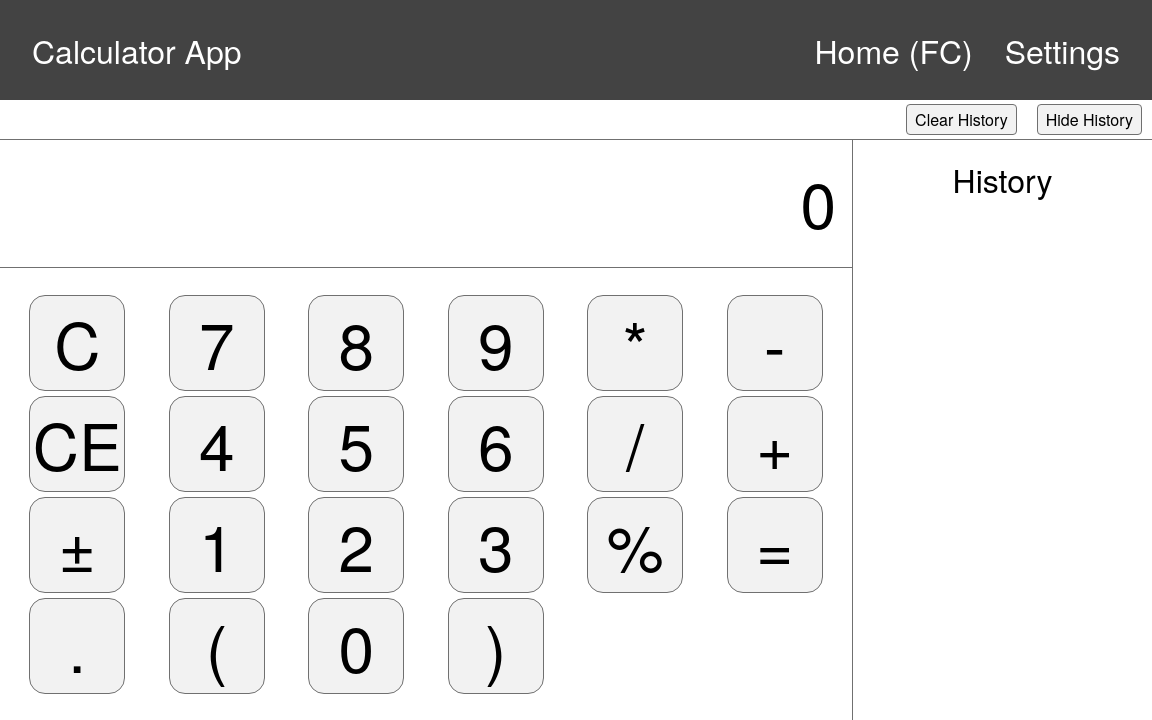
Test: calculator › should add records history
Click the button "5" at [356, 444], box [308, 396, 404, 492]
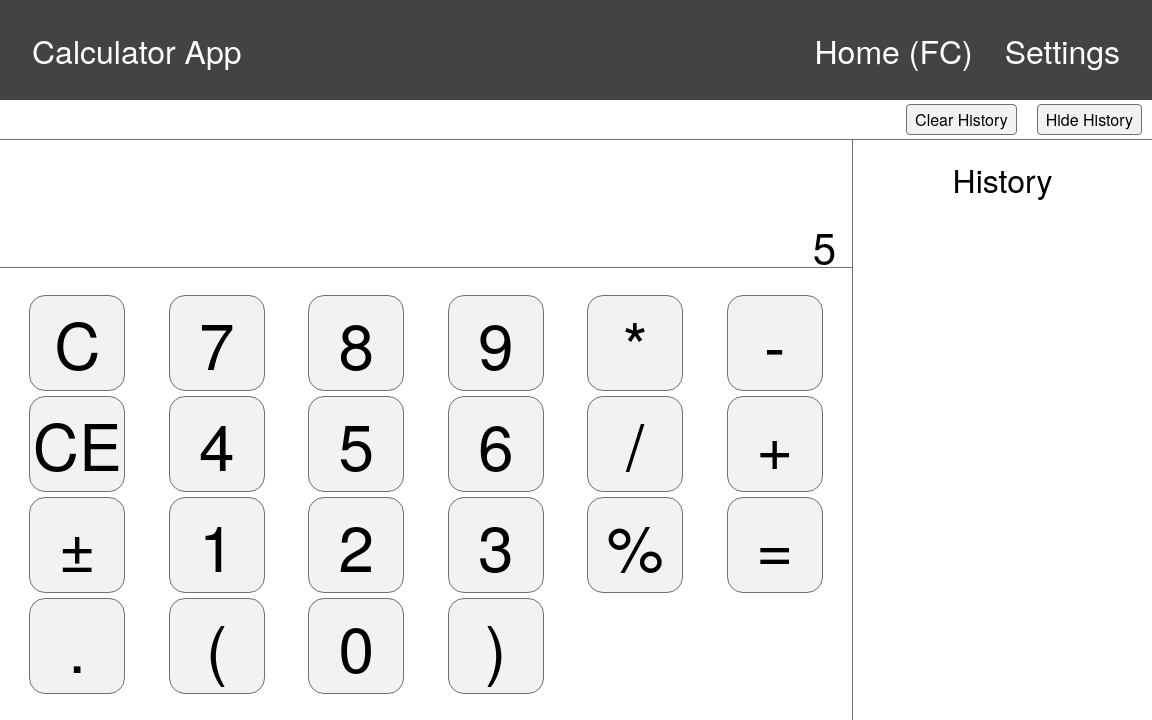
Click the button "-" at [775, 343], box [727, 295, 823, 391]
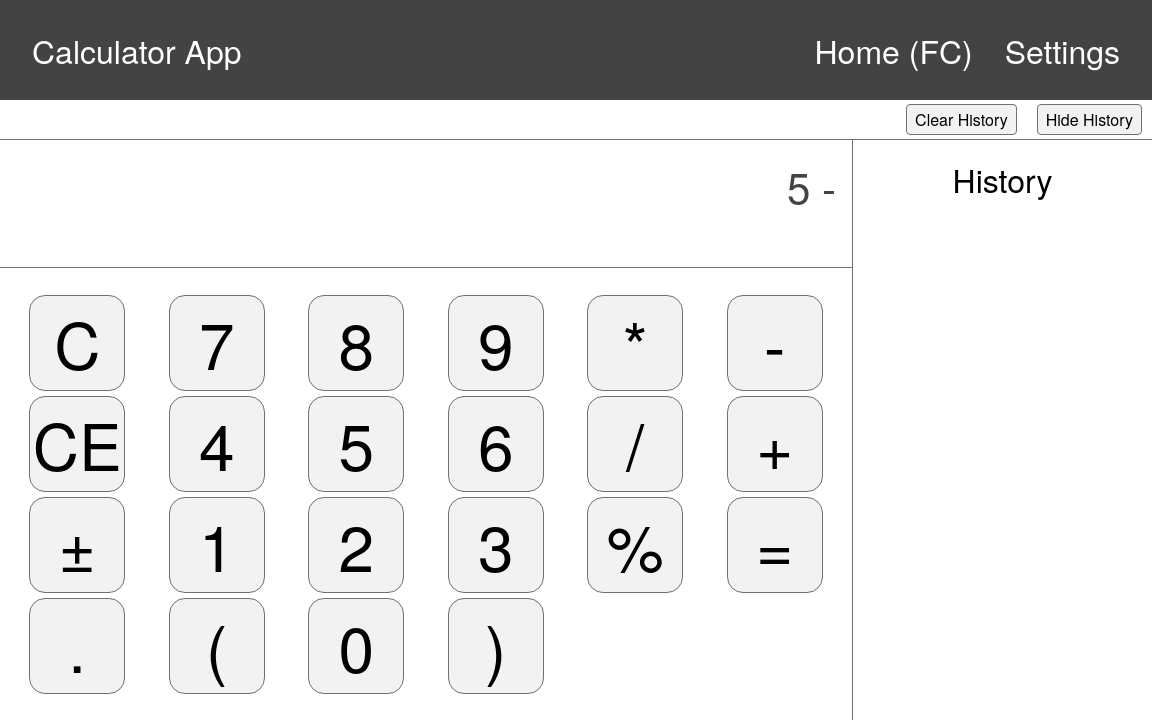
Click the button "5" at [356, 444], box [308, 396, 404, 492]
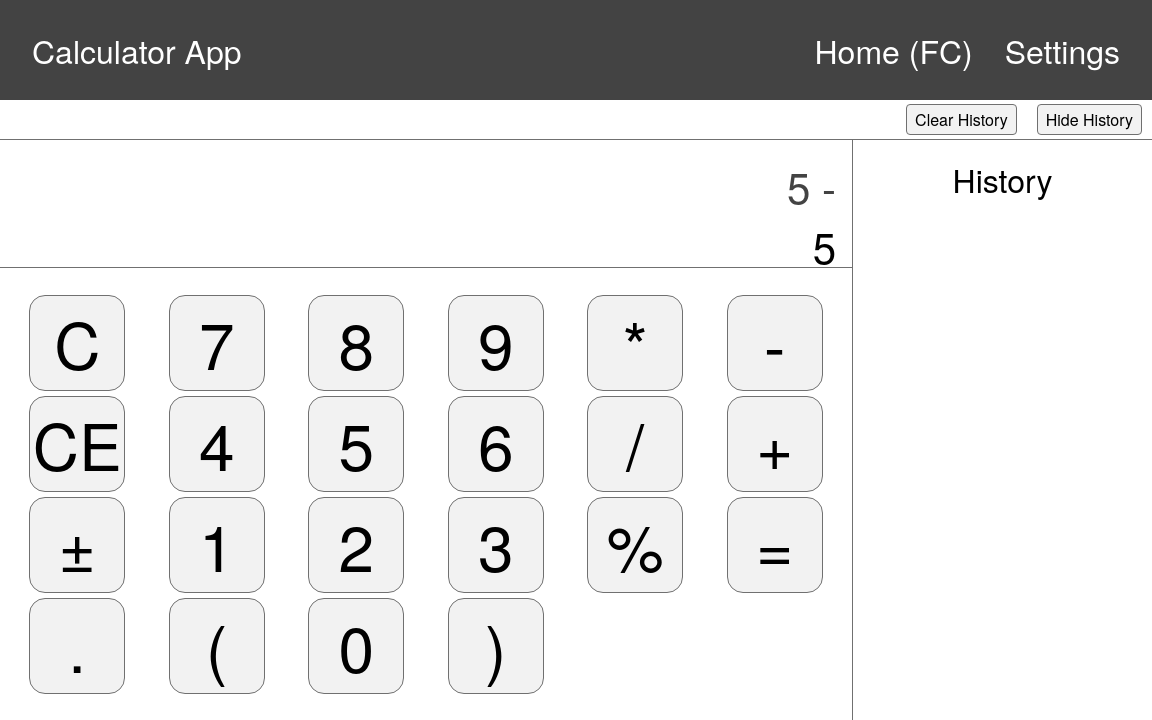
Click the button "=" at [775, 545], box [727, 497, 823, 593]
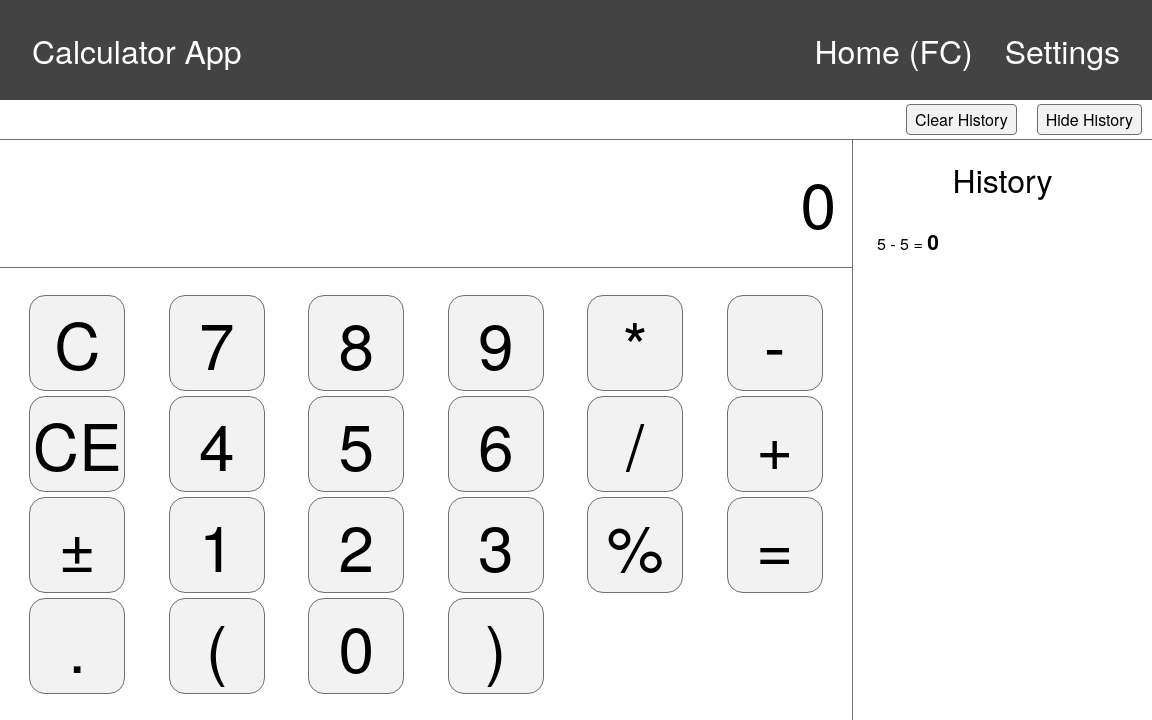
Expected: the element showing "5 - 5 = 0" is shown, [877, 226, 939, 256]
